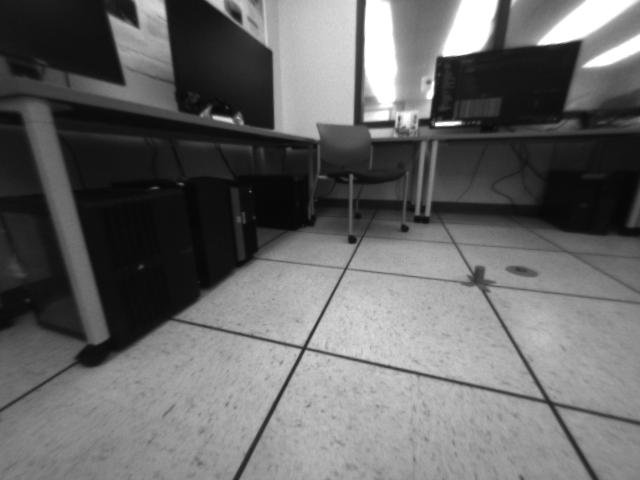X: (461, 265, 498, 293)
